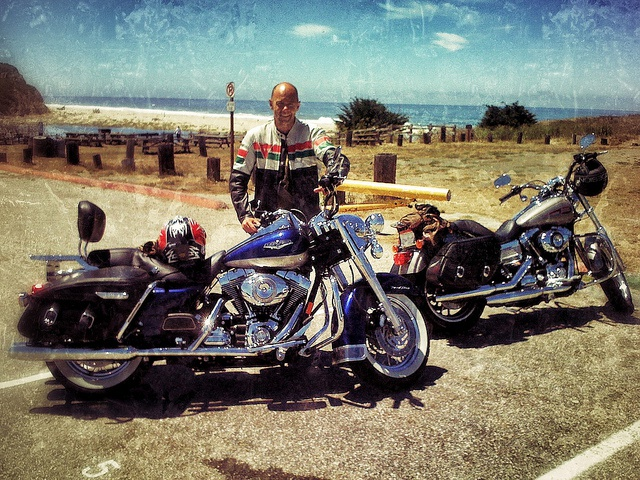non-vehicle: (3, 151, 434, 392), (394, 133, 633, 334)
